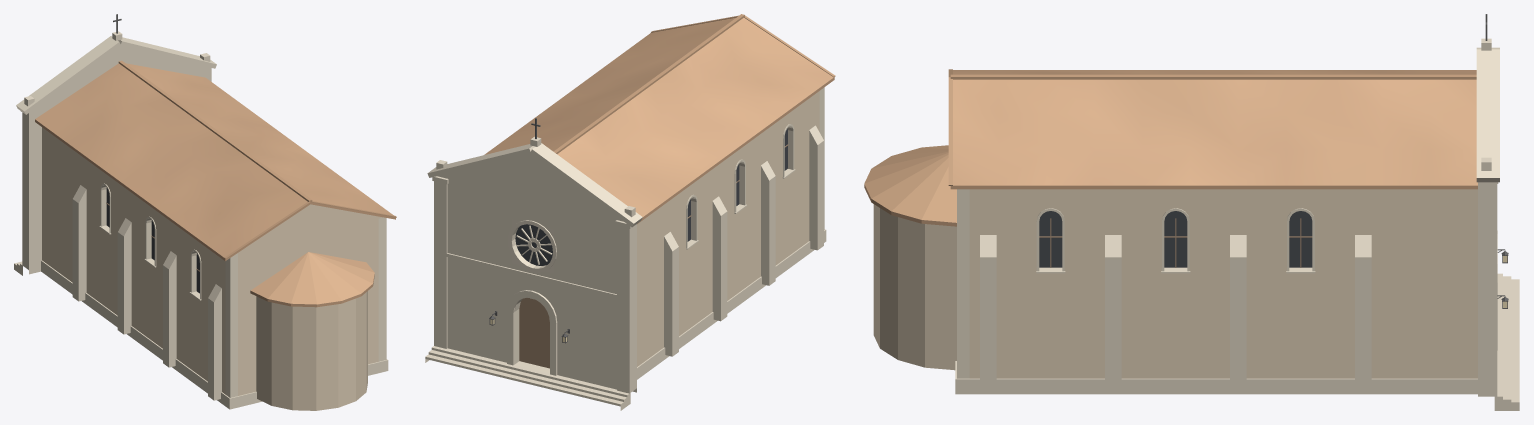
Rendered from SM_BM_BH_Church.glb.
3 views of the same model, side by side, from view 1: azimuth 30°, elevation 25°; view 2: azimuth 150°, elevation 25°; view 3: azimuth 270°, elevation 25° (orthographic). The views are drawn at different scales.
Parts seen in each view (by area): view 1: SM_BM_BH_Church; view 2: SM_BM_BH_Church; view 3: SM_BM_BH_Church.
Part boxes in pixels (x1=…): SM_BM_BH_Church: x1=14, y1=14, x2=396, y2=410; SM_BM_BH_Church: x1=425, y1=14, x2=835, y2=410; SM_BM_BH_Church: x1=864, y1=14, x2=1519, y2=410.
Bounding box in the file's own units: 14.78 × 17.73 × 31.45.
